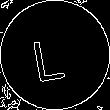L_N: (35, 28, 75, 82)
